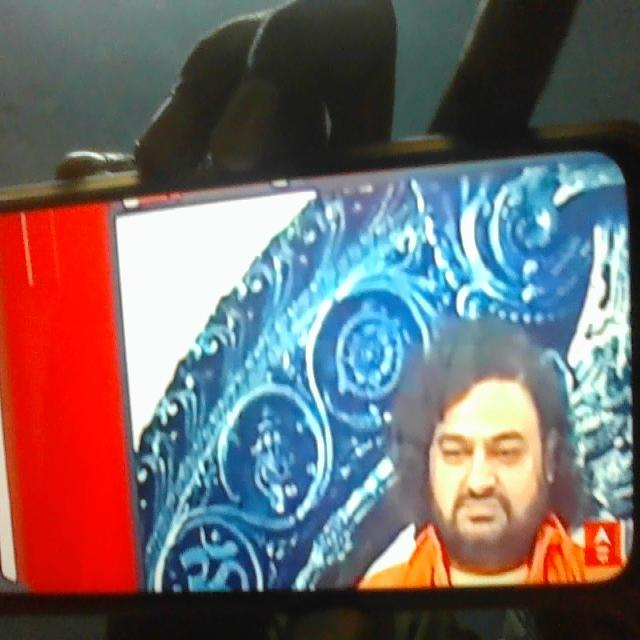fake: (422, 321, 550, 563)
